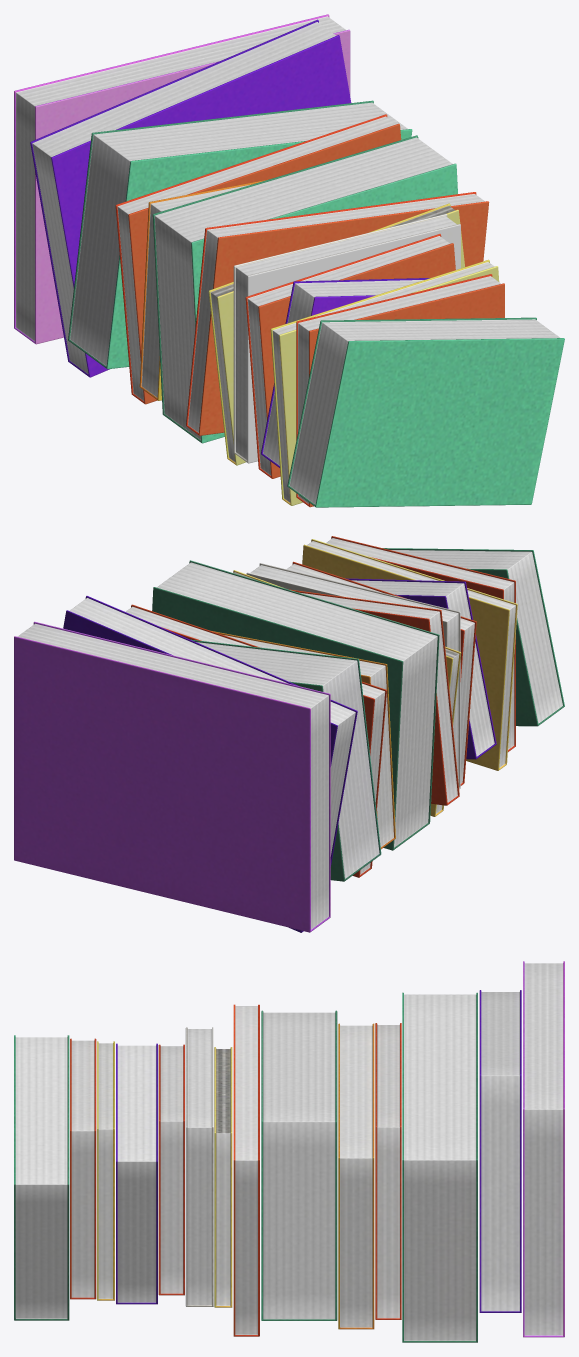
The model's file is books.fbx.
3 renders of one model, top to bottom at view 1: azimuth 30°, elevation 25°; view 2: azimuth 150°, elevation 25°; view 3: azimuth 270°, elevation 25°, orthographic. The views are drawn at different scales.
Parts seen in each view (by area): view 1: 10267_Books_Paperback_L2.001, 10267_Books_Paperback_L2.013, 10267_Books_Paperback_L2.012, 10267_Books_Paperback_L2.009, 10267_Books_Paperback_L2.014, 10267_Books_Paperback_L2.008, 10267_Books_Paperback_L2.011, 10267_Books_Paperback_L2.006, 10267_Books_Paperback_L2.005, 10267_Books_Paperback_L2.002, 10267_Books_Paperback_L2.003, 10267_Books_Paperback_L2.004 (+2 smaller); view 2: 10267_Books_Paperback_L2.014, 10267_Books_Paperback_L2.009, 10267_Books_Paperback_L2.012, 10267_Books_Paperback_L2.001, 10267_Books_Paperback_L2.003, 10267_Books_Paperback_L2.013, 10267_Books_Paperback_L2.008, 10267_Books_Paperback_L2.004, 10267_Books_Paperback_L2.006, 10267_Books_Paperback_L2.002, 10267_Books_Paperback_L2.011, 10267_Books_Paperback_L2.010 (+2 smaller); view 3: 10267_Books_Paperback_L2.012, 10267_Books_Paperback_L2.009, 10267_Books_Paperback_L2.001, 10267_Books_Paperback_L2.014, 10267_Books_Paperback_L2.013, 10267_Books_Paperback_L2.010, 10267_Books_Paperback_L2.004, 10267_Books_Paperback_L2.008, 10267_Books_Paperback_L2.006, 10267_Books_Paperback_L2.011, 10267_Books_Paperback_L2.002, 10267_Books_Paperback_L2.005 (+2 smaller).
Boxes of the visible parts, x1,y1,x2,y2 form: 10267_Books_Paperback_L2.001: (287, 317, 564, 507); 10267_Books_Paperback_L2.013: (30, 19, 351, 377); 10267_Books_Paperback_L2.012: (68, 100, 412, 369); 10267_Books_Paperback_L2.009: (152, 135, 457, 443); 10267_Books_Paperback_L2.014: (14, 14, 350, 344); 10267_Books_Paperback_L2.008: (186, 192, 489, 435); 10267_Books_Paperback_L2.011: (115, 114, 401, 404); 10267_Books_Paperback_L2.006: (233, 214, 460, 463); 10267_Books_Paperback_L2.005: (245, 234, 455, 478); 10267_Books_Paperback_L2.002: (296, 274, 504, 507); 10267_Books_Paperback_L2.003: (270, 259, 499, 505); 10267_Books_Paperback_L2.004: (261, 278, 429, 467); 10267_Books_Paperback_L2.014: (14, 621, 330, 932); 10267_Books_Paperback_L2.009: (152, 560, 439, 850); 10267_Books_Paperback_L2.012: (191, 639, 381, 881); 10267_Books_Paperback_L2.001: (382, 548, 564, 726); 10267_Books_Paperback_L2.003: (302, 539, 517, 770); 10267_Books_Paperback_L2.013: (63, 596, 357, 932); 10267_Books_Paperback_L2.008: (289, 589, 459, 805); 10267_Books_Paperback_L2.004: (345, 578, 496, 759); 10267_Books_Paperback_L2.006: (246, 563, 460, 788); 10267_Books_Paperback_L2.002: (326, 536, 515, 751); 10267_Books_Paperback_L2.011: (125, 604, 386, 877); 10267_Books_Paperback_L2.010: (212, 631, 395, 849); 10267_Books_Paperback_L2.012: (402, 992, 477, 1342); 10267_Books_Paperback_L2.009: (261, 1010, 337, 1320); 10267_Books_Paperback_L2.001: (14, 1035, 69, 1320); 10267_Books_Paperback_L2.014: (523, 961, 564, 1337); 10267_Books_Paperback_L2.013: (479, 990, 521, 1312); 10267_Books_Paperback_L2.010: (338, 1023, 374, 1329); 10267_Books_Paperback_L2.004: (116, 1043, 157, 1304); 10267_Books_Paperback_L2.008: (233, 1004, 259, 1336); 10267_Books_Paperback_L2.006: (185, 1027, 213, 1306); 10267_Books_Paperback_L2.011: (375, 1023, 401, 1319); 10267_Books_Paperback_L2.002: (70, 1038, 96, 1299); 10267_Books_Paperback_L2.005: (158, 1044, 184, 1295).
Size of the model in its own units: 1104 by 911 by 1680.
Materials: 1 (1 with a texture image).
